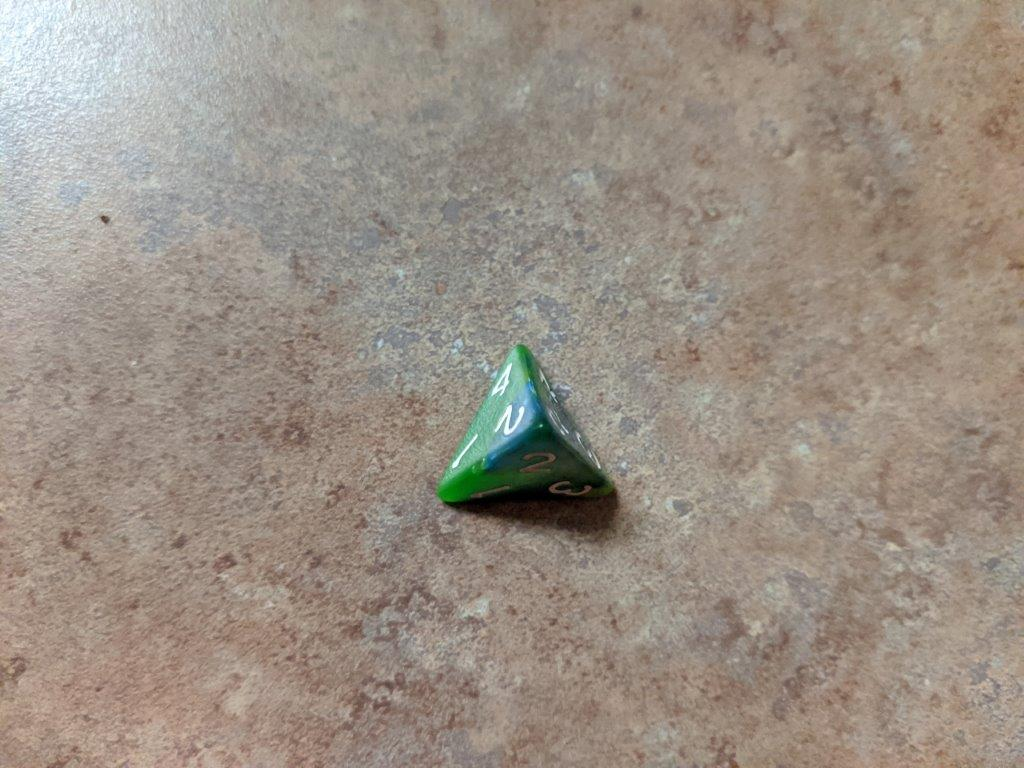d4-2: (434, 340, 621, 513)
